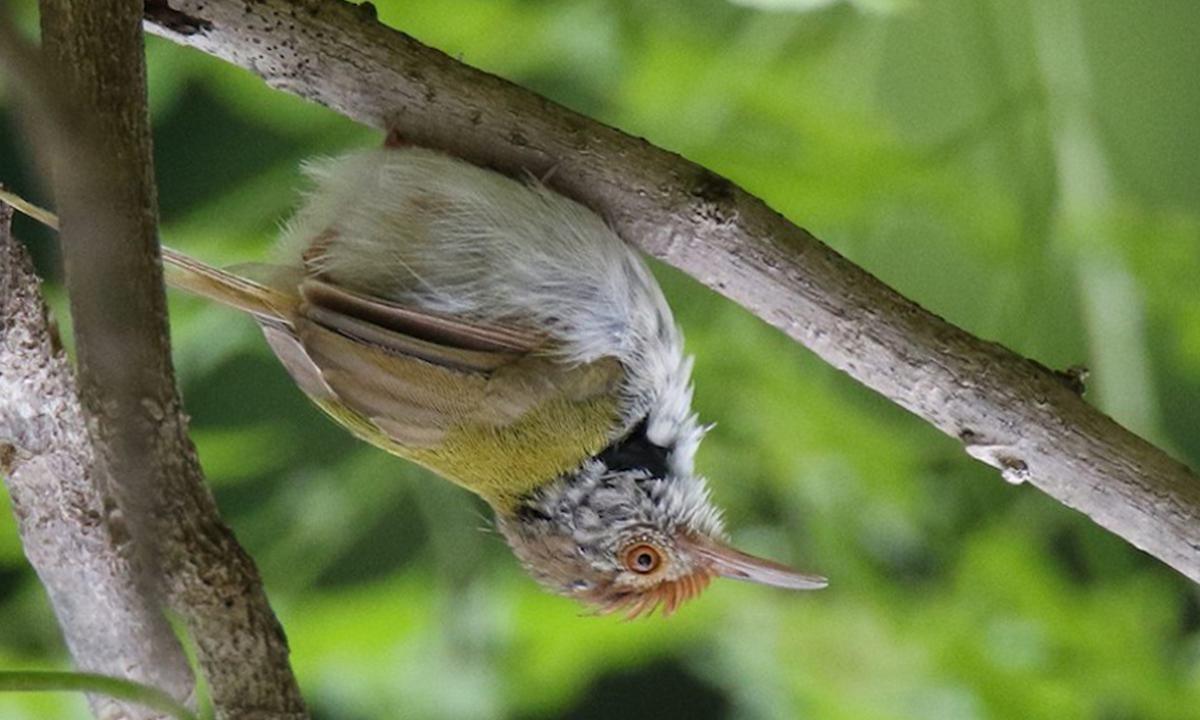tailorbird: (234, 151, 823, 657)
